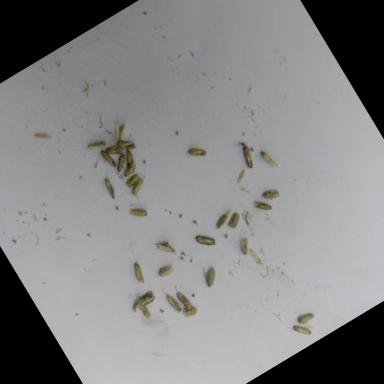pbw: (161, 284, 184, 316), (171, 282, 194, 313), (238, 144, 259, 170), (195, 229, 218, 252), (200, 266, 222, 289), (129, 261, 149, 286), (110, 121, 132, 143), (110, 153, 132, 175), (260, 148, 280, 172), (128, 202, 150, 223), (156, 238, 176, 260), (116, 136, 137, 156), (292, 320, 312, 341), (104, 140, 125, 160), (128, 177, 148, 197), (253, 196, 273, 216), (188, 142, 208, 162), (236, 235, 255, 256), (100, 148, 118, 170), (136, 290, 158, 308), (296, 308, 316, 327), (225, 212, 244, 232), (102, 178, 119, 200), (87, 136, 107, 154), (262, 186, 282, 204), (180, 302, 200, 320), (120, 148, 138, 168), (248, 248, 264, 268), (34, 127, 51, 145), (157, 264, 176, 280), (122, 162, 140, 178), (212, 214, 230, 230), (138, 302, 152, 320), (234, 169, 250, 184), (125, 174, 142, 188)
